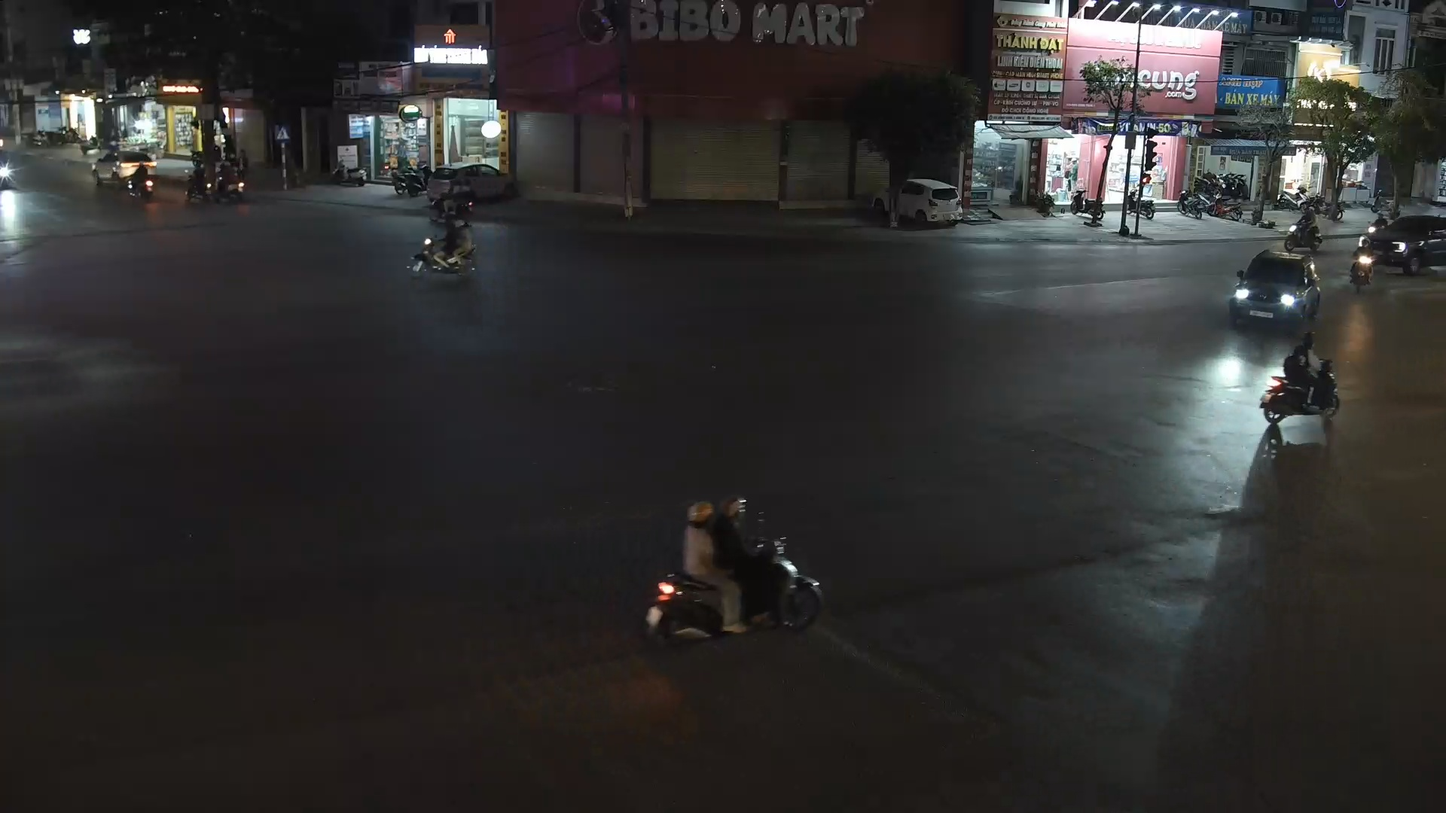car: (1257, 332, 1342, 432), (1227, 246, 1324, 333), (1354, 207, 1445, 281)
motorbike: (642, 492, 825, 648), (1257, 332, 1342, 430), (406, 209, 481, 282), (1348, 238, 1375, 290)
